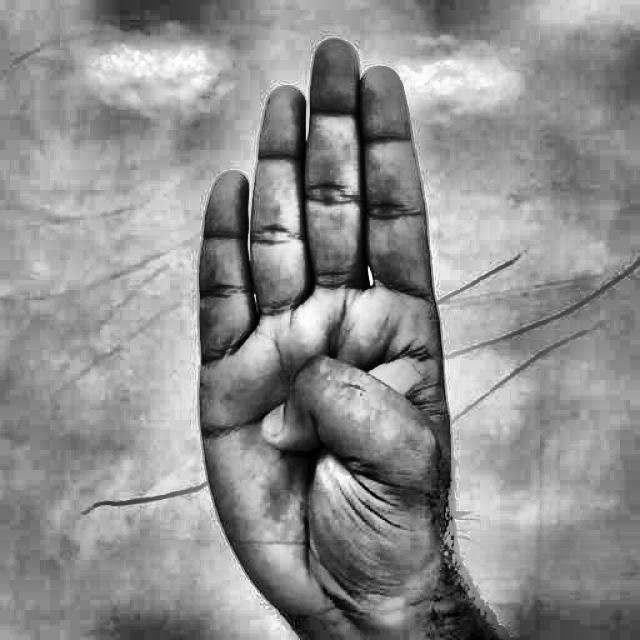Ba: (156, 19, 504, 634)
